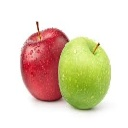apple: (21, 22, 73, 103)
